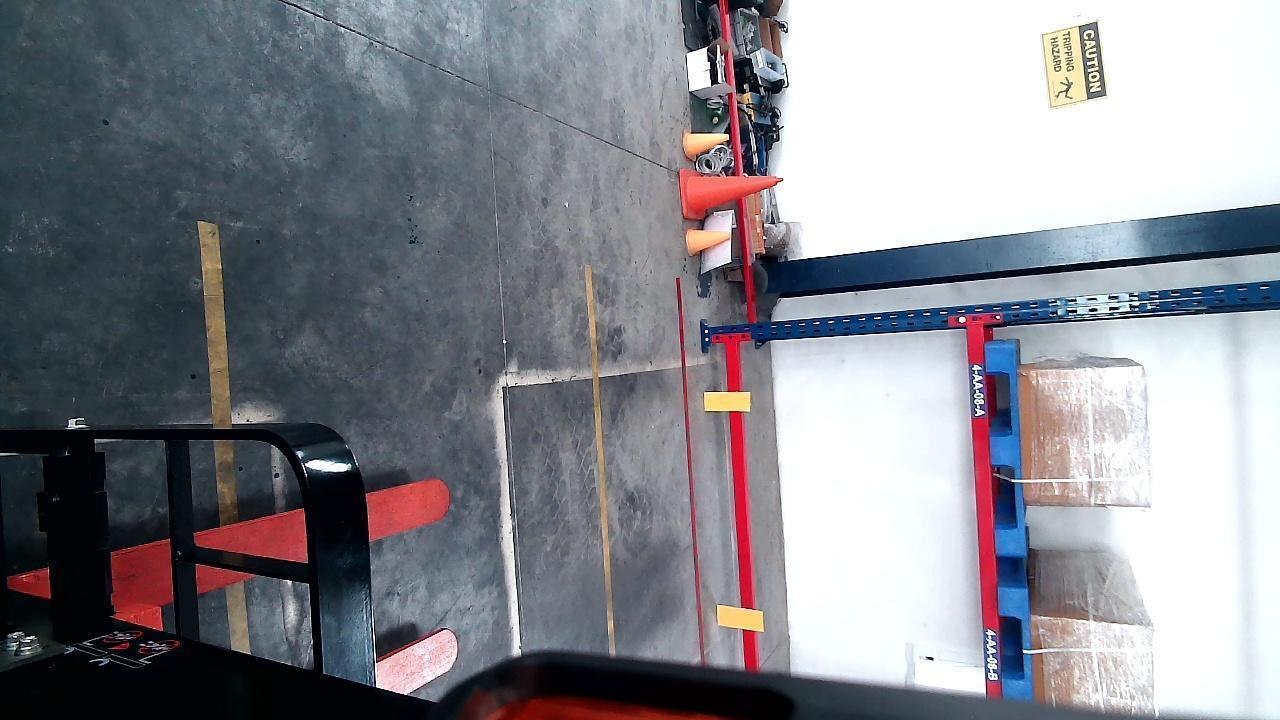red_line: (674, 280, 704, 661)
yellow_line: (583, 274, 618, 650), (201, 216, 231, 430)
